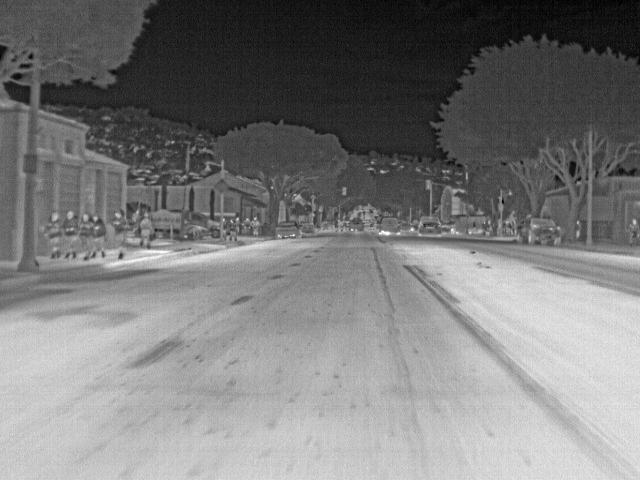car: (519, 216, 551, 244), (187, 210, 219, 226), (275, 220, 302, 238), (181, 222, 205, 241), (379, 216, 400, 234), (420, 216, 443, 232), (299, 220, 316, 234), (350, 218, 365, 232), (400, 222, 415, 232)
person: (111, 209, 127, 259), (91, 212, 106, 260), (48, 211, 62, 258), (79, 211, 93, 258), (64, 209, 77, 257), (139, 211, 154, 247), (626, 216, 639, 246), (226, 218, 238, 241), (249, 214, 262, 234), (572, 219, 584, 240), (239, 216, 252, 234), (552, 225, 564, 244), (220, 216, 227, 240)
